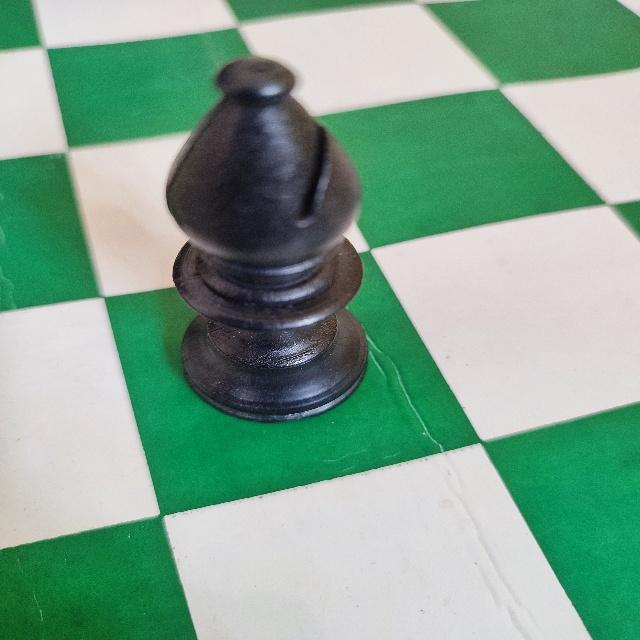Bishop: (163, 52, 375, 430)
